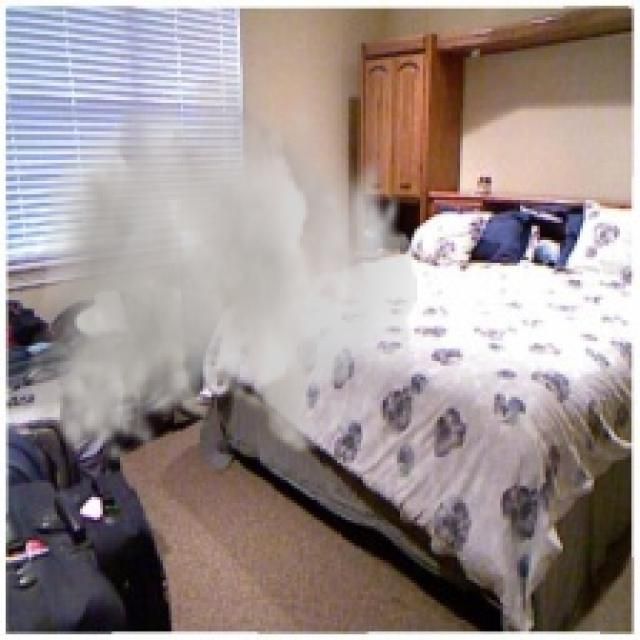smoke: (26, 49, 417, 468)
